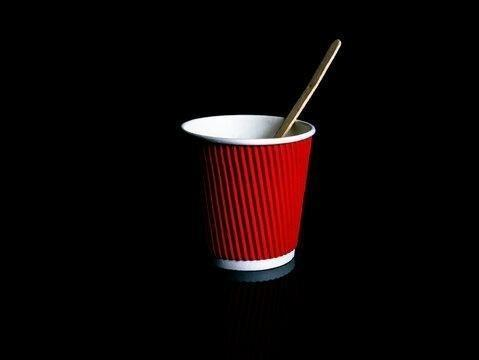cup-disposable: (180, 109, 319, 280)
